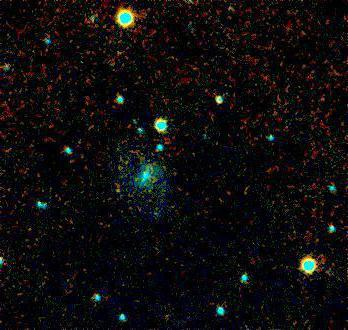star: (102, 175, 132, 205)
